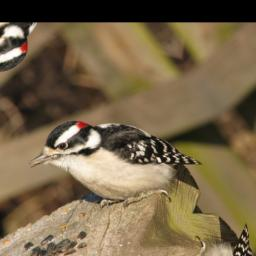Woodpecker: (16, 76, 214, 252)
